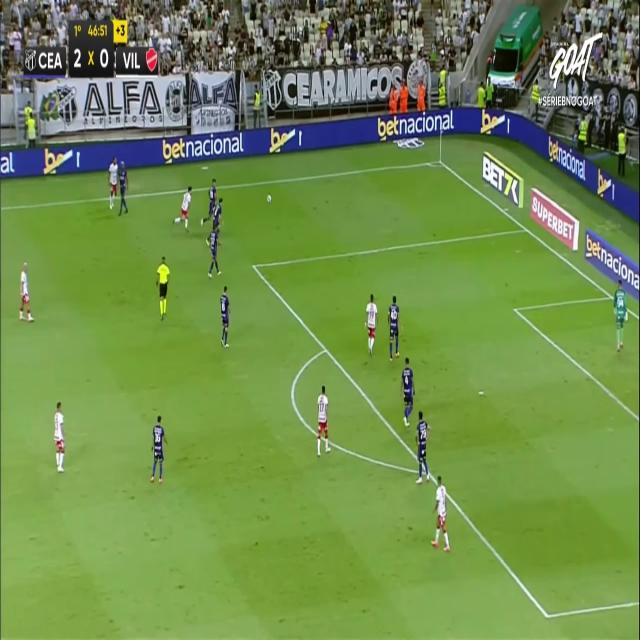ball: (265, 192, 273, 203)
goalkeeper: (613, 278, 627, 352)
player: (431, 474, 451, 551), (203, 221, 229, 280), (149, 414, 167, 483), (415, 410, 431, 483), (202, 178, 223, 233), (316, 384, 330, 455), (400, 357, 414, 427), (18, 261, 34, 321), (173, 185, 192, 231), (388, 294, 401, 360), (53, 401, 65, 472), (365, 294, 378, 356), (220, 285, 230, 348), (118, 160, 129, 215), (108, 155, 118, 209), (210, 199, 223, 234)
referee: (156, 255, 170, 320)
